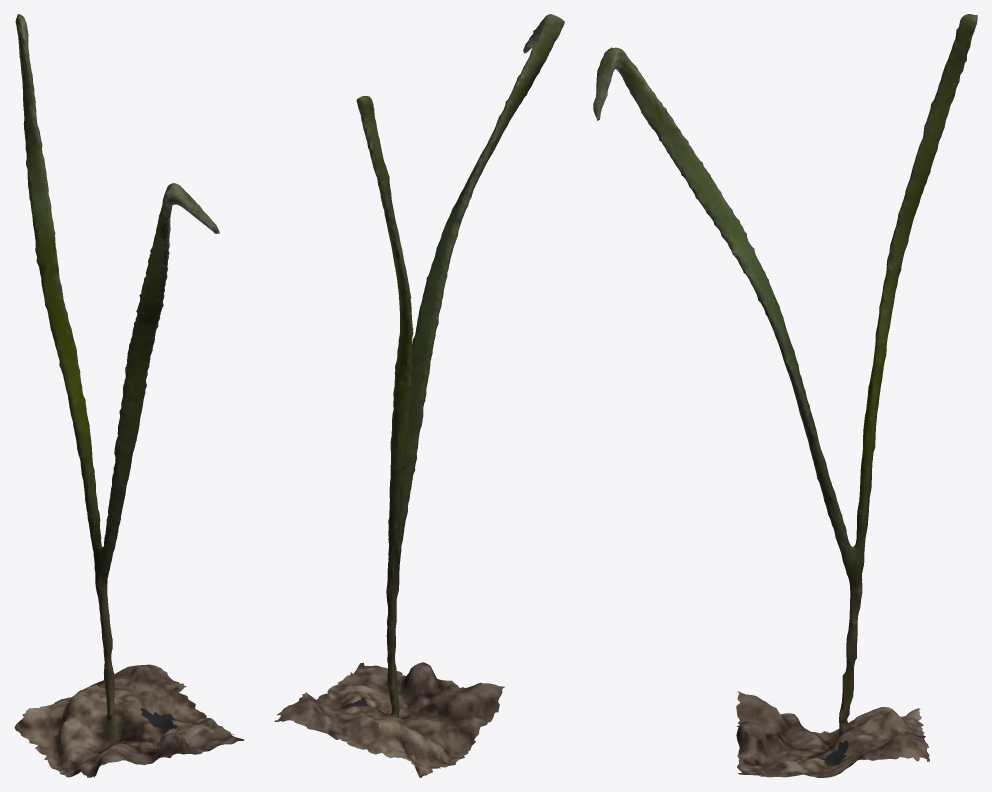
The model's file is Day7.glb.
3 renders of one model, left to right at view 1: azimuth 30°, elevation 25°; view 2: azimuth 150°, elevation 25°; view 3: azimuth 270°, elevation 25°, orthographic. The views are drawn at different scales.
Parts seen in each view (by area): view 1: Day7; view 2: Day7; view 3: Day7.
Boxes of the visible parts, box(x1,y1,x2,y2) form: Day7: box(14, 14, 244, 777); Day7: box(274, 14, 564, 777); Day7: box(593, 14, 977, 777).
Bounding box in the file's own units: 0.1547 × 0.7153 × 0.3392.
58 materials, 58 textured.
